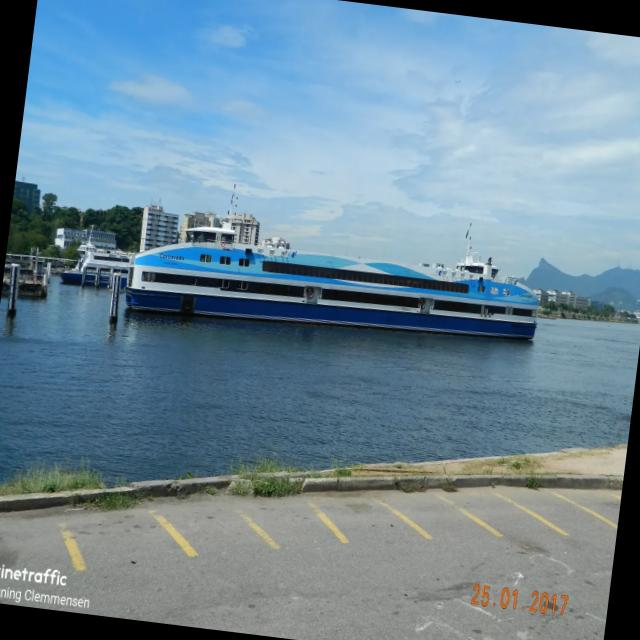Passenger: (125, 208, 538, 339)
